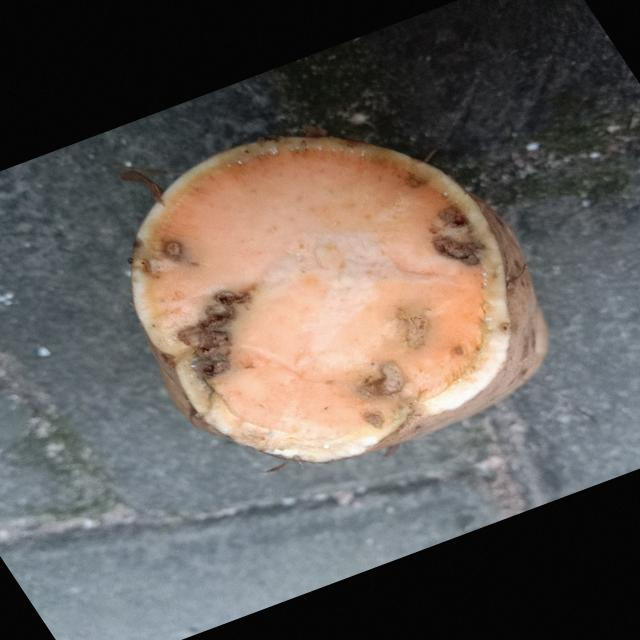Sick Sweet Potato_Tuber Rot: (132, 138, 547, 462)
